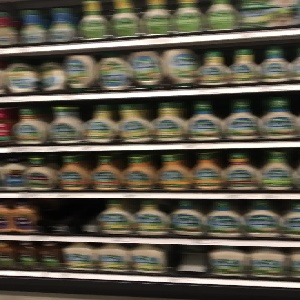void: (36, 199, 99, 236), (169, 240, 208, 279)
